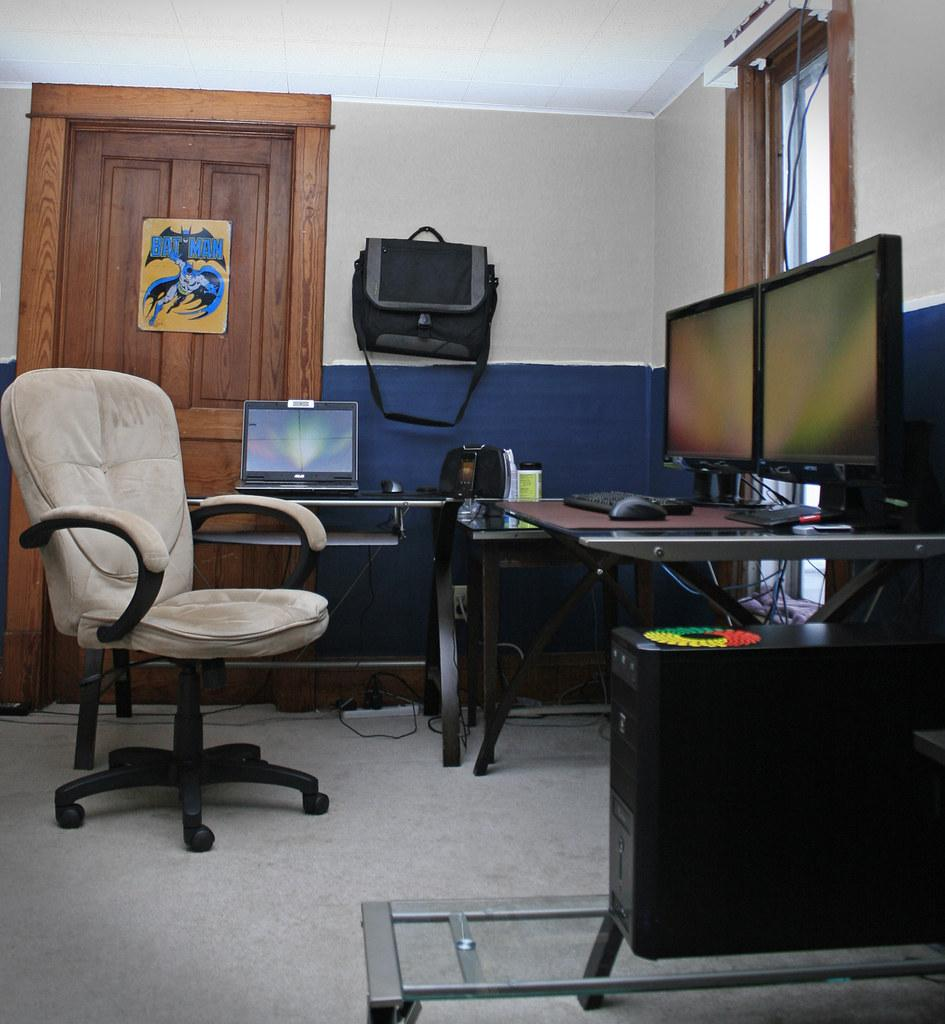computer: (608, 622, 944, 961), (757, 233, 905, 531), (663, 282, 761, 508), (235, 399, 360, 494)
